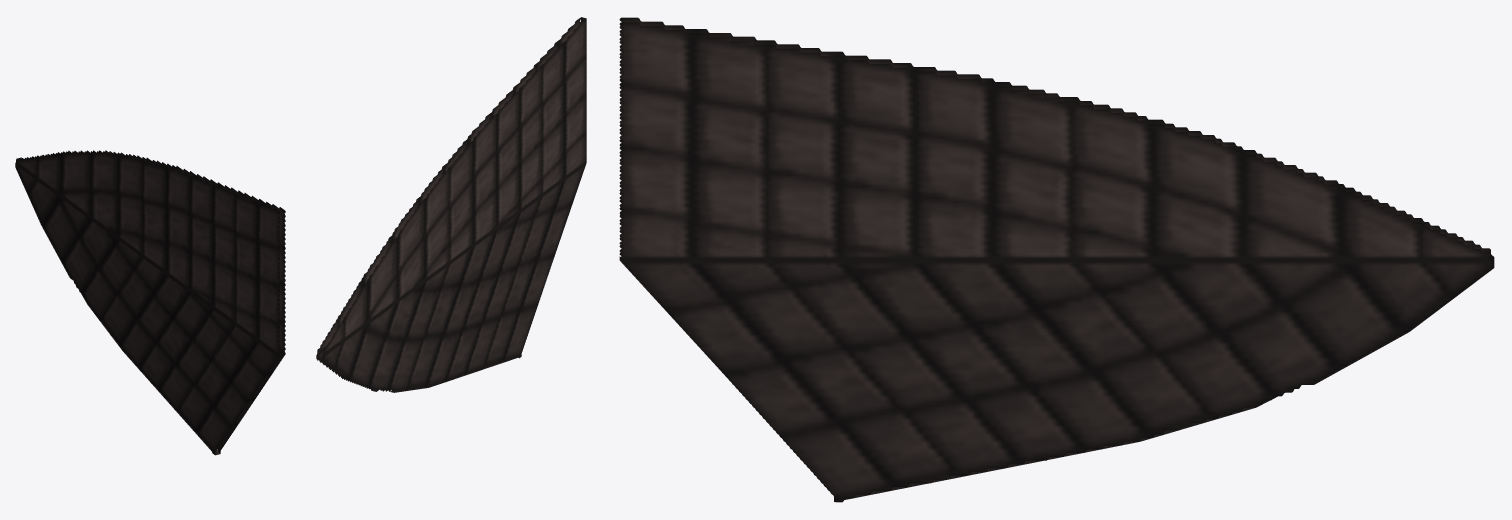
Rendered from pz_native_location_community_church_small_01_202_frame.obj.
3 views of the same model, side by side, from view 1: azimuth 30°, elevation 25°; view 2: azimuth 150°, elevation 25°; view 3: azimuth 270°, elevation 25° (orthographic). The views are drawn at different scales.
Parts seen in each view (by area): view 1: pz_native_location_community_church_small_01_202_frame; view 2: pz_native_location_community_church_small_01_202_frame; view 3: pz_native_location_community_church_small_01_202_frame.
Boxes of the visible parts, x1,y1,x2,y2 form: pz_native_location_community_church_small_01_202_frame: (15,150,285,455); pz_native_location_community_church_small_01_202_frame: (316,17,586,392); pz_native_location_community_church_small_01_202_frame: (619,17,1494,502).
Size of the model in its own units: 0.04 by 2.02 by 3.3.
1 material, 1 textured.
